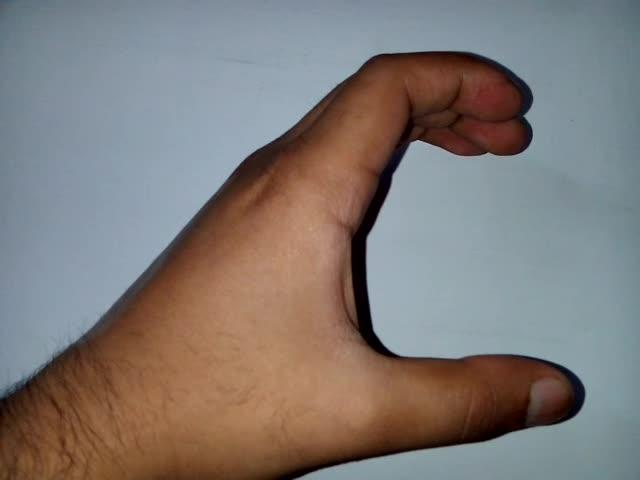C: (108, 45, 596, 476)
